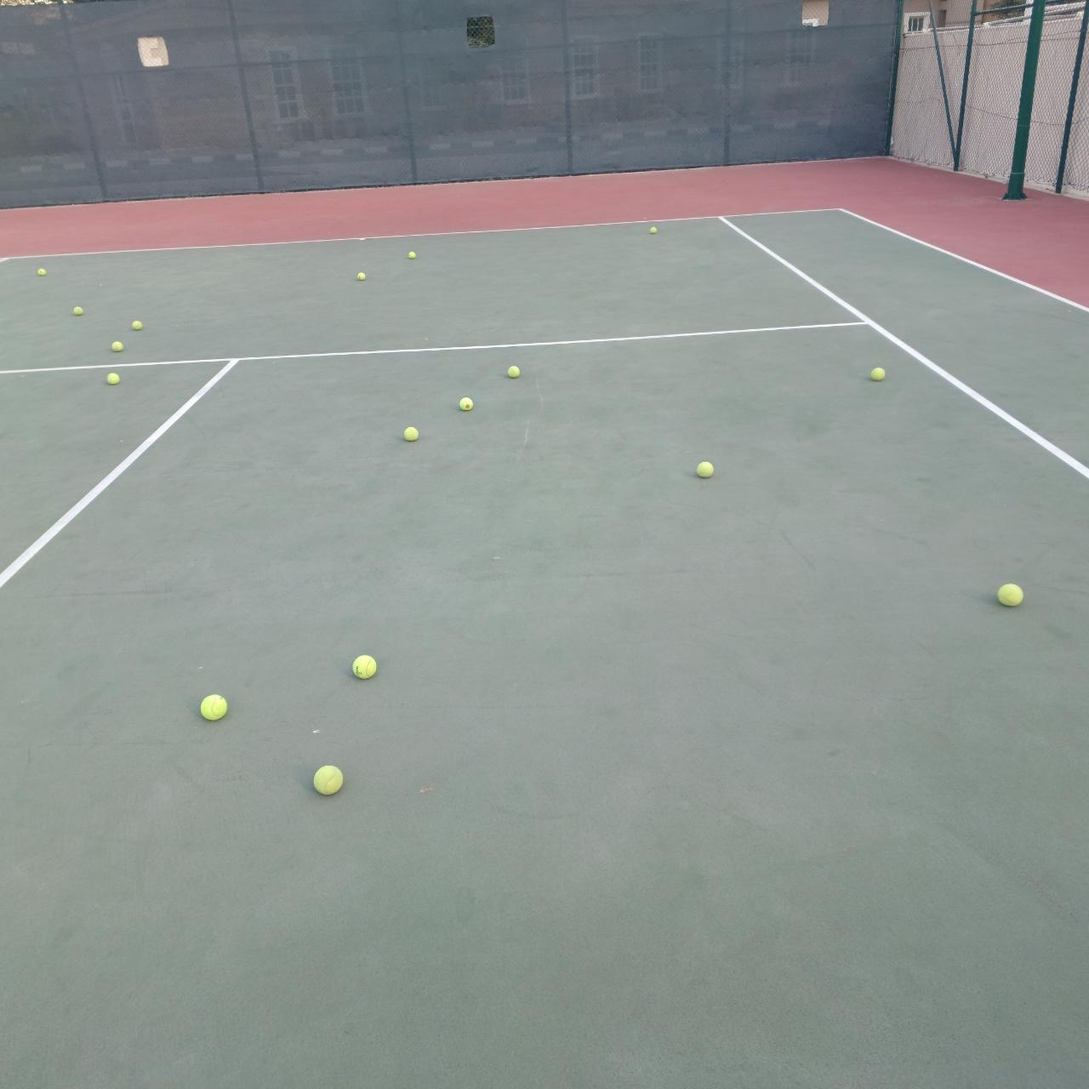tennis-ball: (311, 762, 344, 795), (198, 691, 228, 721), (995, 580, 1023, 607), (351, 652, 377, 679), (695, 459, 714, 477), (404, 426, 419, 442), (871, 366, 885, 381), (459, 396, 473, 411), (507, 365, 520, 379), (106, 372, 119, 384), (110, 341, 124, 352), (131, 320, 142, 330), (73, 306, 83, 316), (37, 268, 46, 277), (358, 272, 366, 281), (408, 252, 416, 260), (650, 227, 657, 235)
